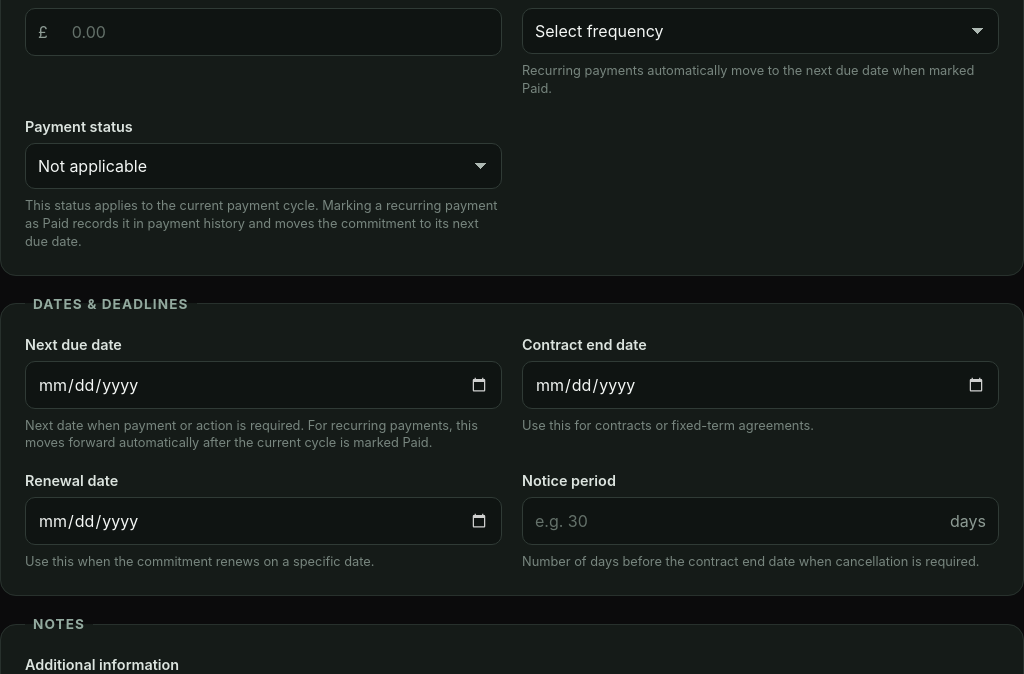
it: CommitmentForm › calculates the cancellation deadline from contract end date and notice period
(page scrolled)
Type "2026-10-31" into the date field labelled "Contract end date" at coordinates (760, 384), box left=522, top=360, right=999, bottom=408
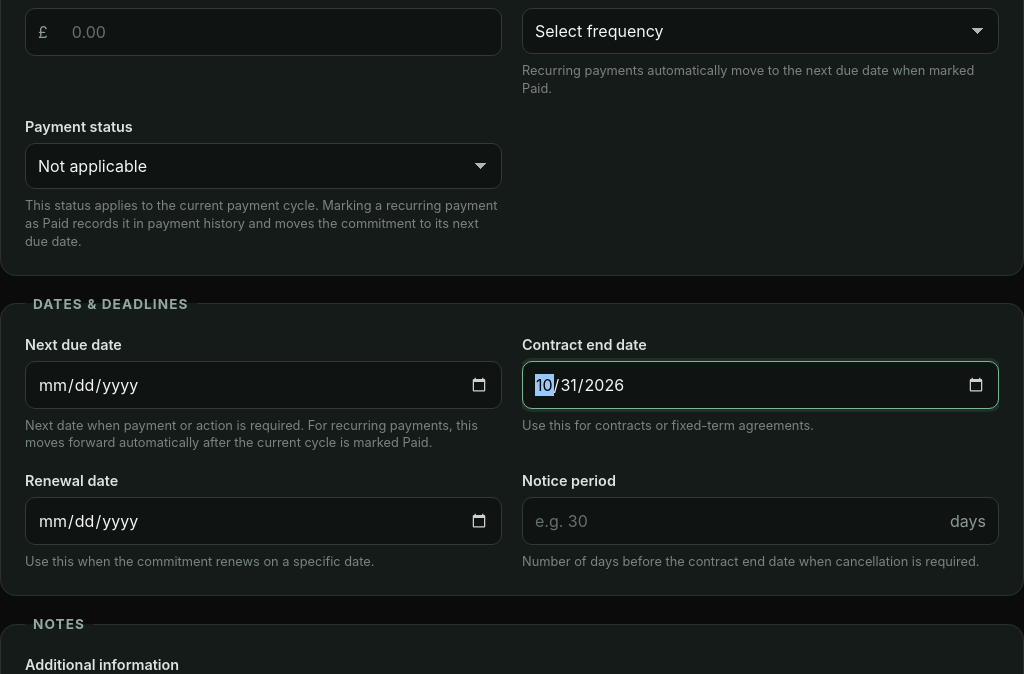
Type "30" into the number field labelled "Notice period" at coordinates (730, 521), box left=523, top=498, right=938, bottom=544
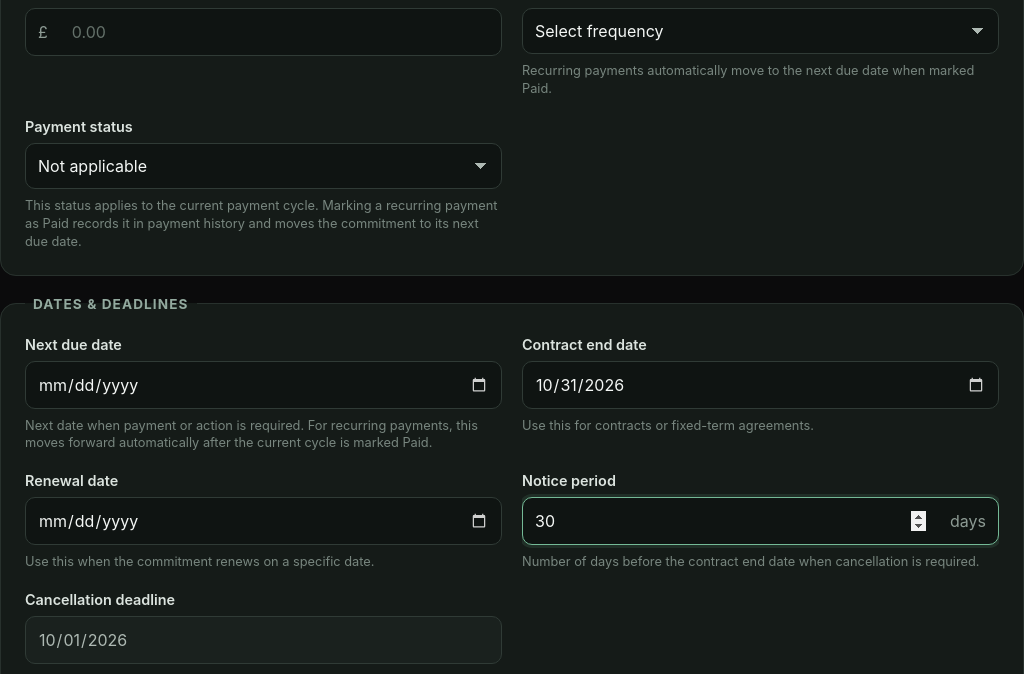
Result: the date field labelled "Cancellation deadline" holds "2026-10-01" at left=25, top=616, right=502, bottom=664
